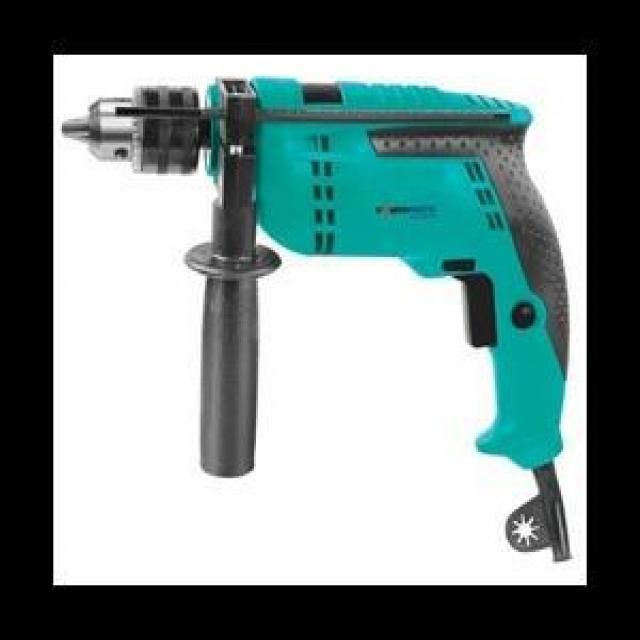drill: (61, 77, 575, 565)
